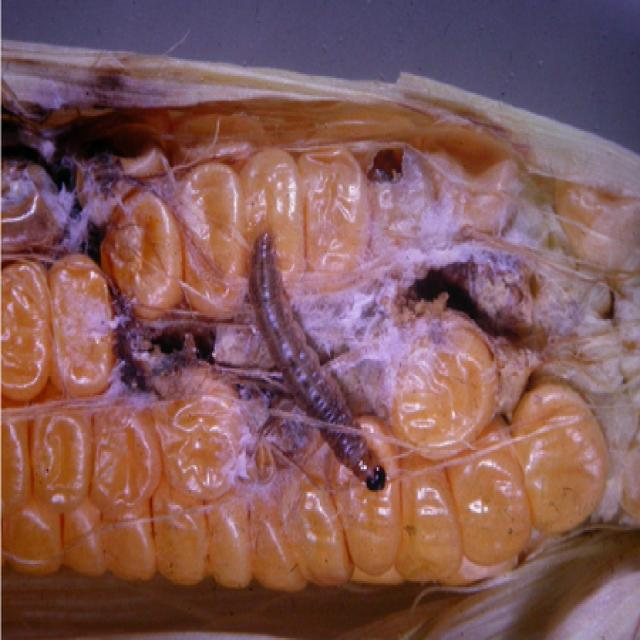cornborer-Larva-: (246, 214, 394, 500)
